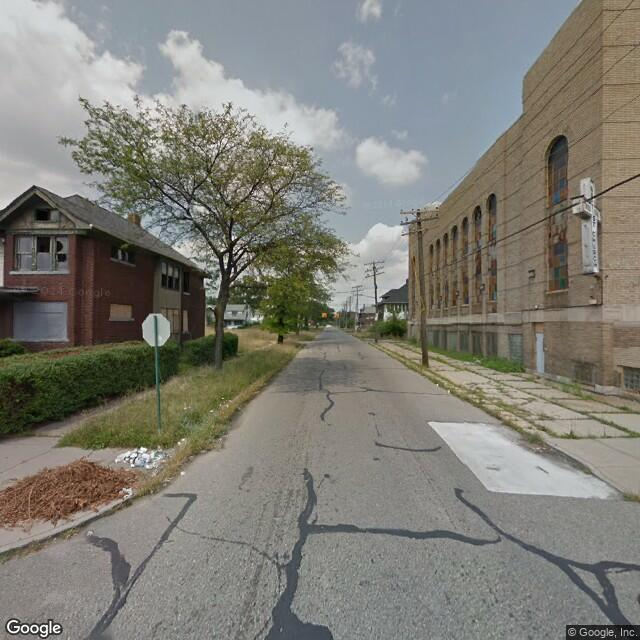litter: (113, 449, 172, 470), (117, 487, 134, 499), (85, 527, 95, 537), (179, 469, 187, 475), (445, 388, 452, 394), (435, 381, 440, 386)
